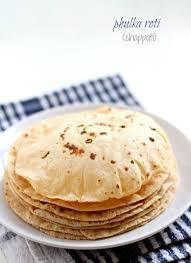roti phulka: (13, 100, 184, 238)
